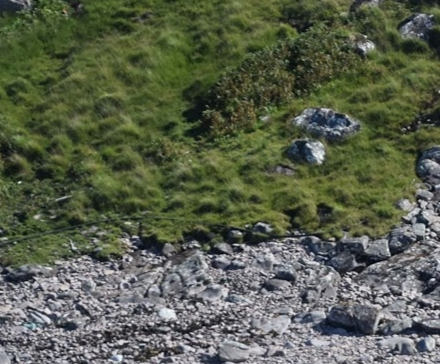tube: (253, 211, 379, 247), (1, 213, 136, 244), (139, 203, 253, 237)
white_in_green: (142, 293, 195, 337)
